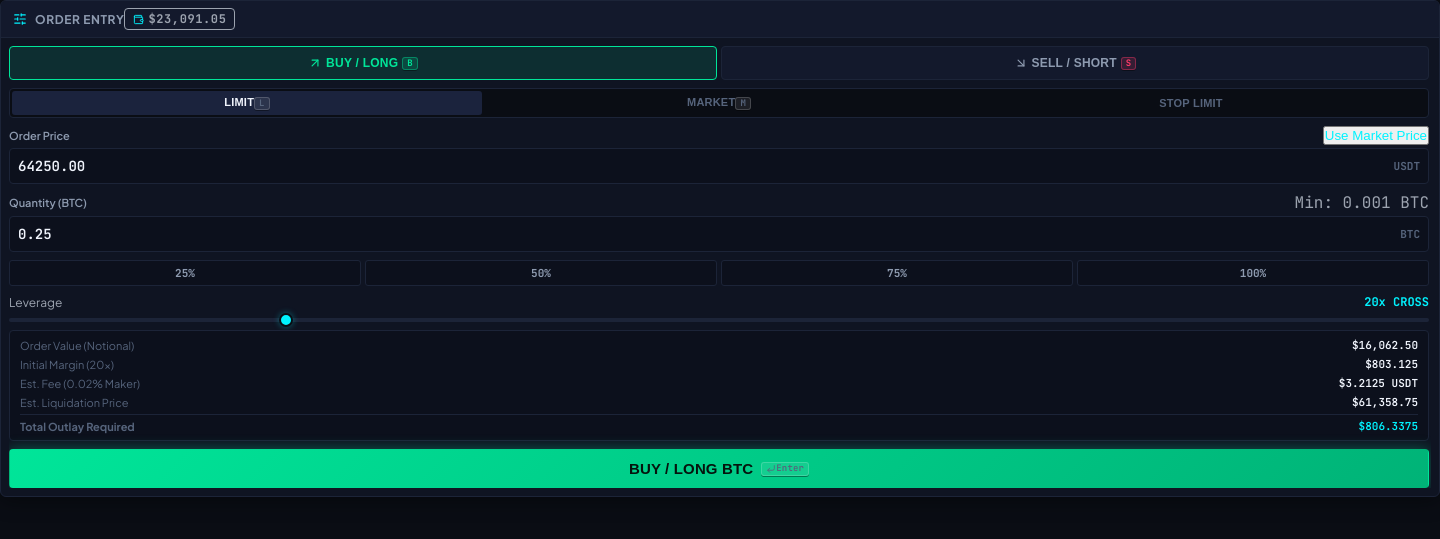
Test case: Phase 8 — Order Form Feature › submits valid order and displays success notification banner
The width and height of the screenshot is (1440, 539).
Replace the text in the number field labelled "Order Price" with "64500". click: {"x": 706, "y": 166}
box: [18,149,1394,183]
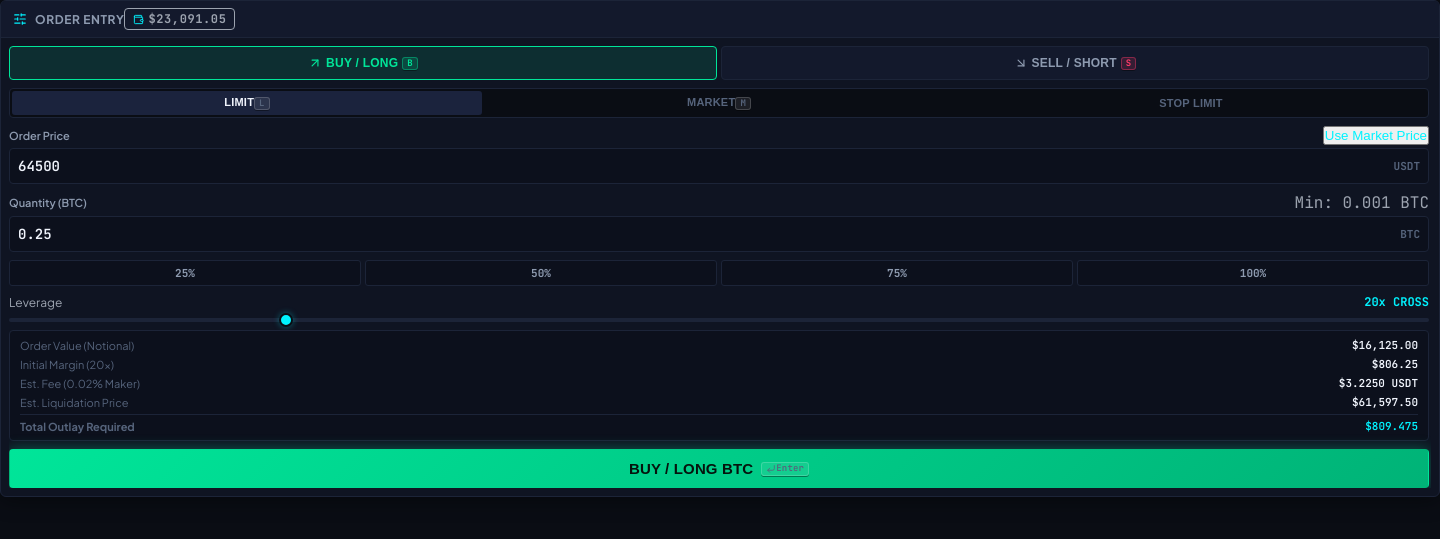
Replace the text in the number field labelled "Quantity (BTC)" with "0.5". click: {"x": 709, "y": 234}
box: [18,217,1400,251]
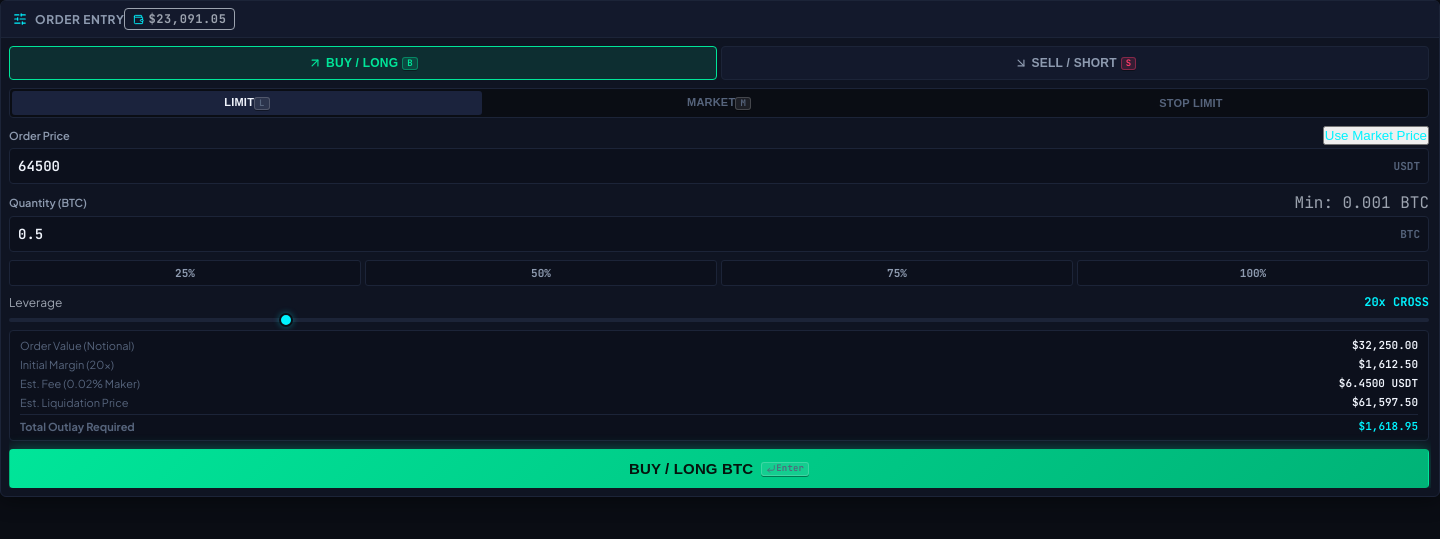
Click the button with test id "order-submit-btn". click: {"x": 719, "y": 468}
box: [9,449,1429,488]
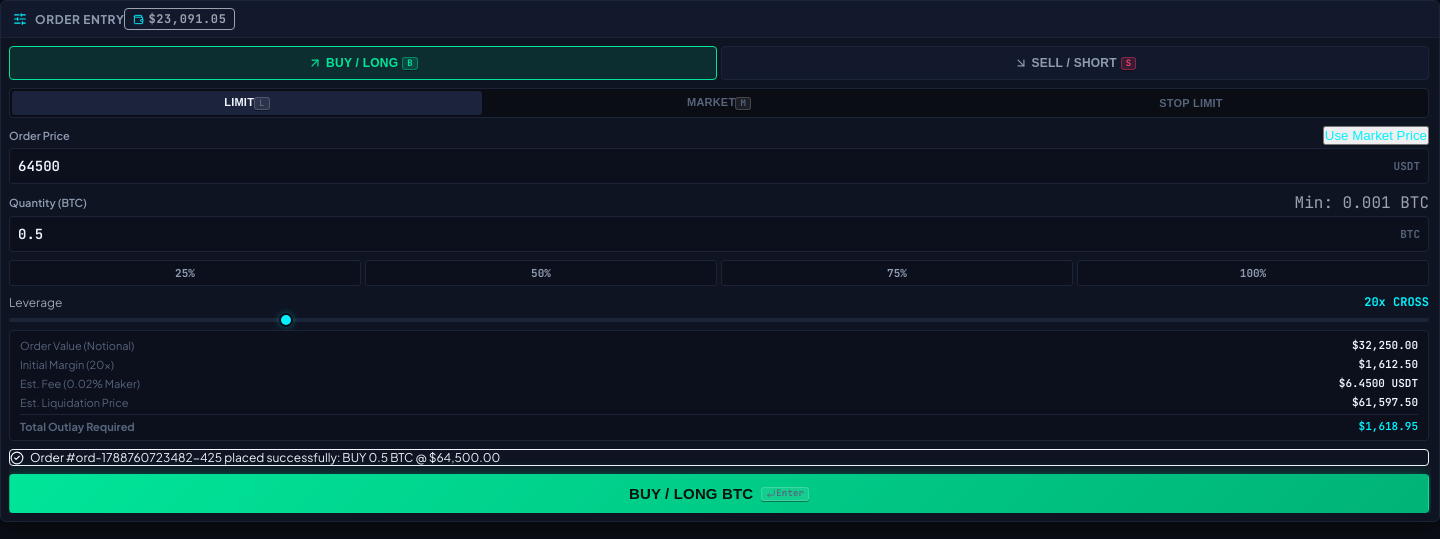
Result: the message "Order #ord-1788760723482-425 placed successfully: BUY 0.5 BTC @ $64,500.00" is shown at [9,449,1429,466]
Result: the message with test id "order-success-banner" shows "placed successfully" at [30,450,500,465]
